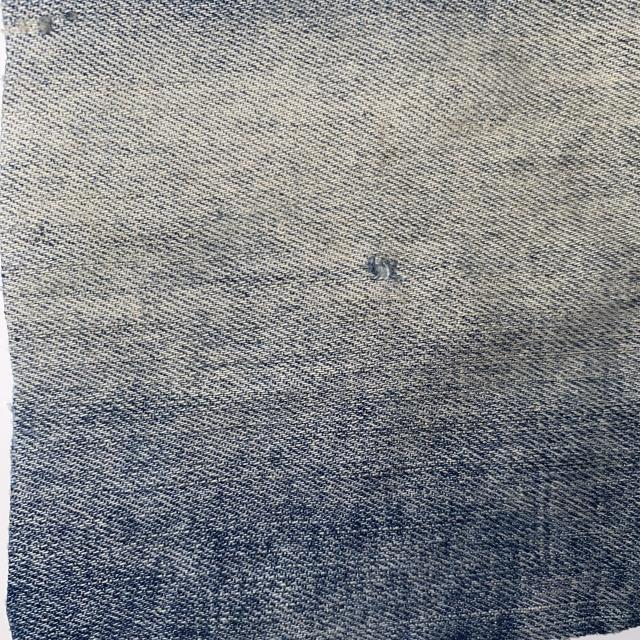Knot: (362, 252, 401, 286), (33, 13, 57, 38)
